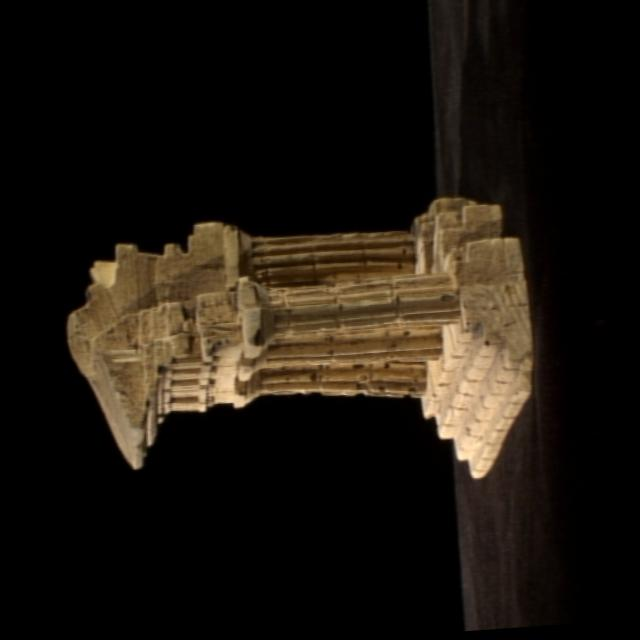Instance-Segmentation: (69, 197, 532, 476)
